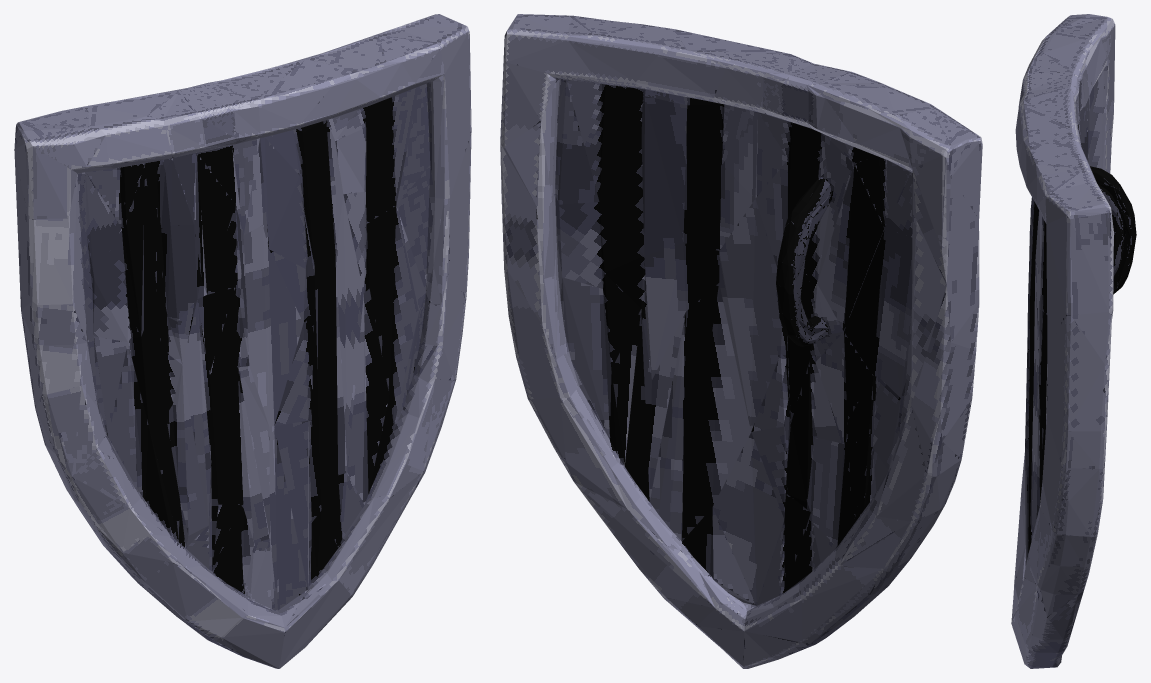
3 renders of one model, left to right at view 1: azimuth 30°, elevation 25°; view 2: azimuth 150°, elevation 25°; view 3: azimuth 270°, elevation 25°, orthographic. The views are drawn at different scales.
Parts seen in each view (by area): view 1: OBJ03b; view 2: OBJ03b; view 3: OBJ03b.
Boxes of the visible parts, x1,y1,x2,y2 form: OBJ03b: [14, 14, 471, 668]; OBJ03b: [500, 14, 982, 668]; OBJ03b: [1011, 14, 1136, 668].
Size of the model in its own units: 0.2861 by 0.3579 by 0.0725.
Materials: 1 (1 with a texture image).
